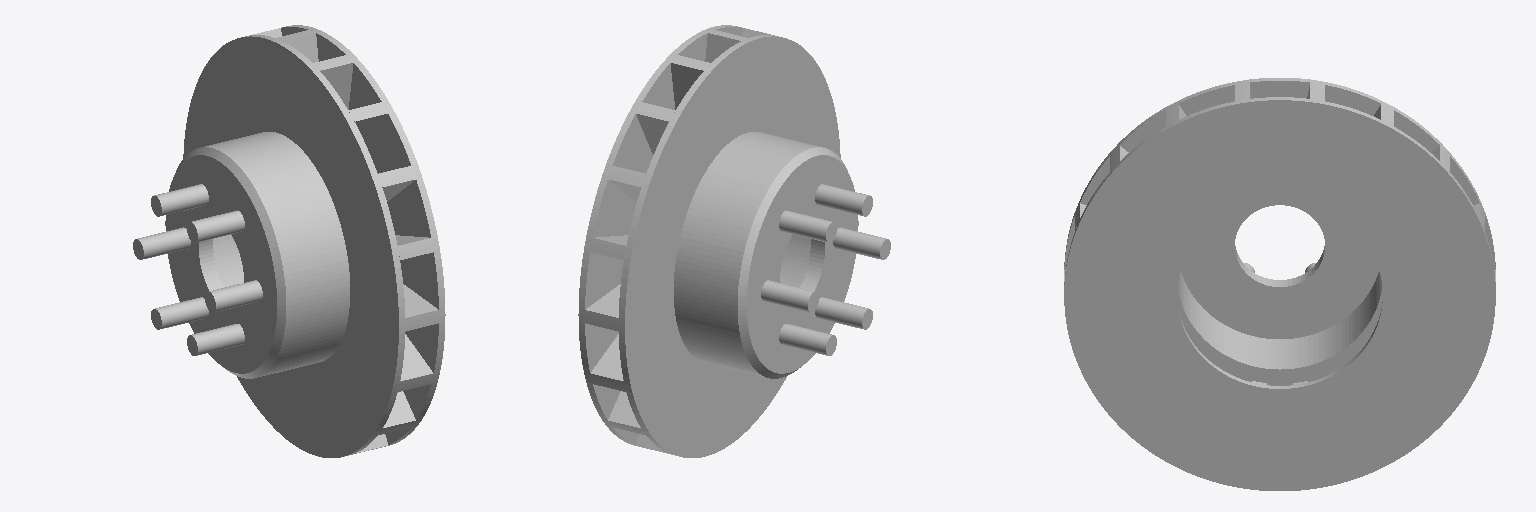
The model's file is Leg_Break_disk.obj.
3 views of the same model, side by side, from view 1: azimuth 30°, elevation 25°; view 2: azimuth 150°, elevation 25°; view 3: azimuth 270°, elevation 25° (orthographic).
Parts seen in each view (by area): view 1: break_disk_leg_42, break_disk_leg_52, break_disk_leg_37, break_disk_leg_40, break_disk_leg_38, break_disk_leg_39, break_disk_leg_36, break_disk_leg_41, break_disk_leg_28, break_disk_leg_49, break_disk_leg_48, break_disk_leg_27 (+4 smaller); view 2: break_disk_leg_42, break_disk_leg_52, break_disk_leg_38, break_disk_leg_41, break_disk_leg_36, break_disk_leg_37, break_disk_leg_39, break_disk_leg_40, break_disk_leg_35, break_disk_leg_46, break_disk_leg_47, break_disk_leg_43 (+4 smaller); view 3: break_disk_leg_52, break_disk_leg_42.
Boxes of the visible parts, <box> form: break_disk_leg_42: <box>165,35,404,457</box>; break_disk_leg_52: <box>281,25,445,446</box>; break_disk_leg_37: <box>151,184,208,216</box>; break_disk_leg_40: <box>187,324,244,355</box>; break_disk_leg_38: <box>187,210,244,242</box>; break_disk_leg_39: <box>205,280,262,312</box>; break_disk_leg_36: <box>133,227,190,259</box>; break_disk_leg_41: <box>151,297,208,329</box>; break_disk_leg_28: <box>398,334,433,391</box>; break_disk_leg_49: <box>348,102,387,154</box>; break_disk_leg_48: <box>313,55,352,109</box>; break_disk_leg_27: <box>403,284,438,331</box>; break_disk_leg_42: <box>619,35,858,457</box>; break_disk_leg_52: <box>578,25,742,446</box>; break_disk_leg_38: <box>815,184,872,216</box>; break_disk_leg_41: <box>779,324,836,355</box>; break_disk_leg_36: <box>761,280,818,312</box>; break_disk_leg_37: <box>779,210,836,242</box>; break_disk_leg_39: <box>833,227,890,259</box>; break_disk_leg_40: <box>815,297,872,329</box>; break_disk_leg_35: <box>590,334,625,391</box>; break_disk_leg_46: <box>636,102,675,154</box>; break_disk_leg_47: <box>671,55,710,109</box>; break_disk_leg_43: <box>585,284,620,331</box>; break_disk_leg_52: <box>1064,97,1495,490</box>; break_disk_leg_42: <box>1064,78,1495,385</box>.
Size of the model in its own units: 35.67 by 81.72 by 81.72.